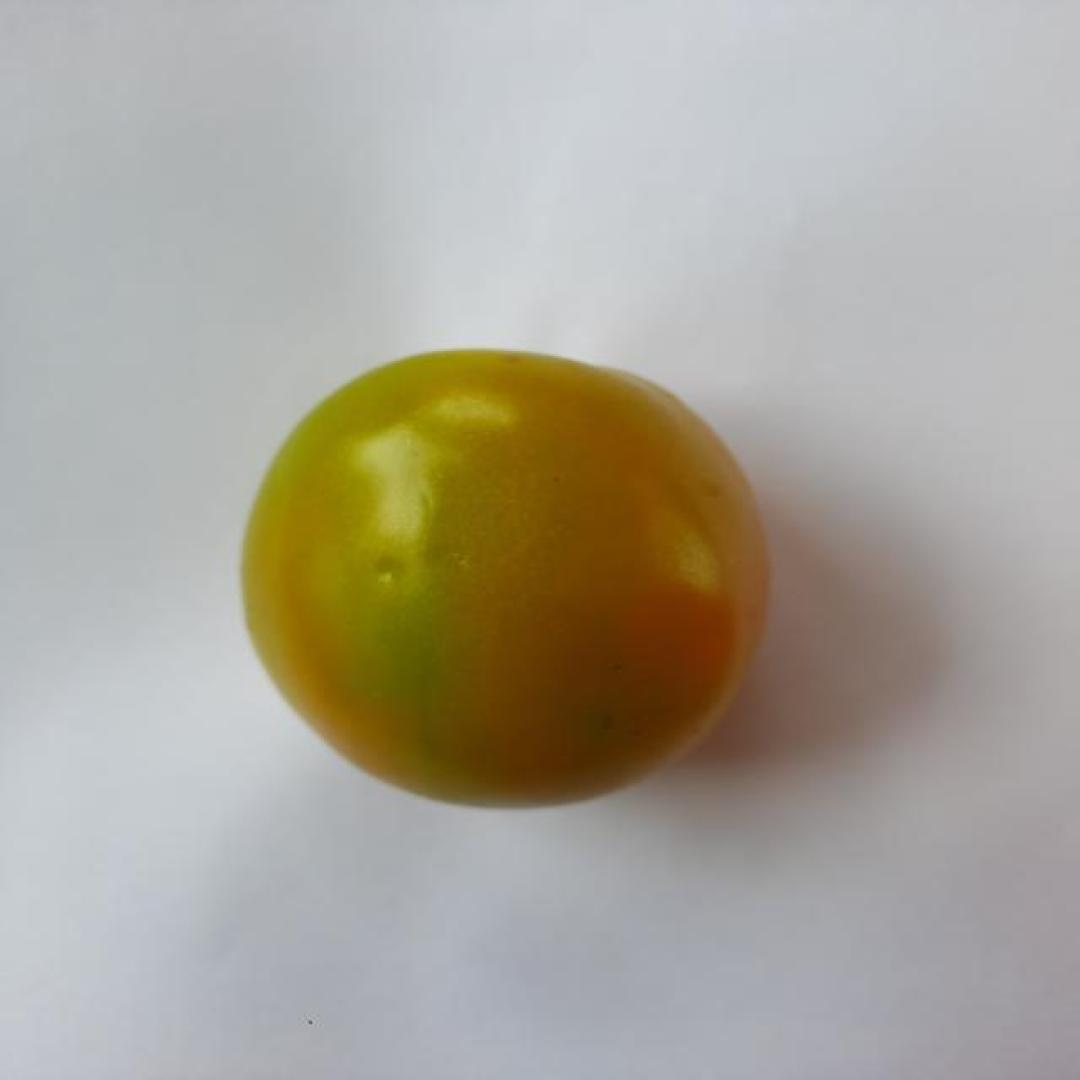setengah_matang: (235, 342, 776, 812)
